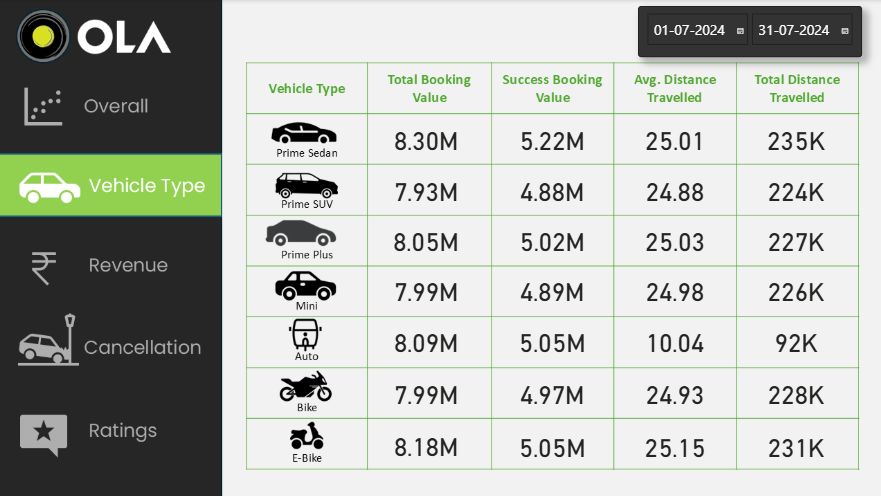

This screenshot's page, from the dashboard's own definition file:
{"tool":"powerbi","page":{"name":"Vehicle_Type","canvas":[1280,720],"ordinal":1},"visuals":[{"type":"actionButton","box":[0,339.8,323.9,95.4],"z":0},{"type":"actionButton","box":[0,448.2,323.9,94],"z":1000},{"type":"actionButton","box":[0,448.2,323.9,94],"z":2000},{"type":"actionButton","box":[0,579.8,323.9,95.4],"z":3000},{"type":"actionButton","box":[0,339.8,323.9,95.4],"z":4000},{"type":"actionButton","box":[0,114.2,323.9,95.4],"z":5000},{"type":"card","fields":{"Values":["Sum(Bookings.Booking_Value)"]},"box":[552.7,174.7,132.7,53.8],"z":6000},{"type":"card","fields":{"Values":["Sum(Bookings.Booking_Value)"]},"box":[552.7,245.2,132.7,60.5],"z":7000},{"type":"card","fields":{"Values":["Sum(Bookings.Booking_Value)"]},"box":[552.7,320.8,132.7,55.4],"z":8000},{"type":"card","fields":{"Values":["Sum(Bookings.Booking_Value)"]},"box":[552.7,393.1,132.7,55.4],"z":9000},{"type":"card","fields":{"Values":["Sum(Bookings.Booking_Value)"]},"box":[552.7,467,132.7,55.4],"z":10000},{"type":"card","fields":{"Values":["Sum(Bookings.Booking_Value)"]},"box":[552.7,542.6,132.7,55.4],"z":11000},{"type":"card","fields":{"Values":["Sum(Bookings.Booking_Value)"]},"box":[552.7,616.5,132.7,58.8],"z":12000},{"type":"card","fields":{"Values":["Sum(Bookings.Booking_Value)"]},"box":[734.1,174.7,132.7,53.8],"z":13000},{"type":"card","fields":{"Values":["Sum(Bookings.Booking_Value)"]},"box":[734.1,245.2,132.7,60.5],"z":14000},{"type":"card","fields":{"Values":["Sum(Bookings.Booking_Value)"]},"box":[734.1,320.8,132.7,55.4],"z":15000},{"type":"card","fields":{"Values":["Sum(Bookings.Booking_Value)"]},"box":[734.1,393.1,132.7,55.4],"z":16000},{"type":"card","fields":{"Values":["Sum(Bookings.Booking_Value)"]},"box":[734.1,467,132.7,55.4],"z":17000},{"type":"card","fields":{"Values":["Sum(Bookings.Booking_Value)"]},"box":[734.1,542.6,132.7,55.4],"z":18000},{"type":"card","fields":{"Values":["Sum(Bookings.Booking_Value)"]},"box":[734.1,611.4,132.7,68.9],"z":19000},{"type":"card","fields":{"Values":["Avg(Bookings.Ride_Distance)"]},"box":[912.1,174.7,132.7,53.8],"z":20000},{"type":"card","fields":{"Values":["Avg(Bookings.Ride_Distance)"]},"box":[912.1,245.2,132.7,60.5],"z":21000},{"type":"card","fields":{"Values":["Avg(Bookings.Ride_Distance)"]},"box":[912.1,320.8,132.7,55.4],"z":22000},{"type":"card","fields":{"Values":["Avg(Bookings.Ride_Distance)"]},"box":[912.1,393.1,132.7,55.4],"z":23000},{"type":"card","fields":{"Values":["Avg(Bookings.Ride_Distance)"]},"box":[912.1,467,132.7,55.4],"z":24000},{"type":"card","fields":{"Values":["Avg(Bookings.Ride_Distance)"]},"box":[912.1,542.6,132.7,55.4],"z":25000},{"type":"card","fields":{"Values":["Avg(Bookings.Ride_Distance)"]},"box":[912.1,611.4,132.7,68.9],"z":26000},{"type":"card","fields":{"Values":["Sum(Bookings.Ride_Distance)"]},"box":[1086.8,174.7,132.7,53.8],"z":27000},{"type":"card","fields":{"Values":["Sum(Bookings.Ride_Distance)"]},"box":[1086.8,245.2,132.7,60.5],"z":28000},{"type":"card","fields":{"Values":["Sum(Bookings.Ride_Distance)"]},"box":[1086.8,320.8,132.7,55.4],"z":29000},{"type":"card","fields":{"Values":["Sum(Bookings.Ride_Distance)"]},"box":[1086.8,393.1,132.7,55.4],"z":30000},{"type":"card","fields":{"Values":["Sum(Bookings.Ride_Distance)"]},"box":[1086.8,467,132.7,55.4],"z":31000},{"type":"card","fields":{"Values":["Sum(Bookings.Ride_Distance)"]},"box":[1086.8,542.6,132.7,55.4],"z":32000},{"type":"card","fields":{"Values":["Sum(Bookings.Ride_Distance)"]},"box":[1086.8,611.4,132.7,68.9],"z":33000},{"type":"slicer","title":"Date","fields":{"Values":["Bookings.Date"]},"box":[925.3,10.1,323.9,73.7],"z":34000}]}

Visuals, with their boxes on the page's 1280x720 design canvas (x1, y1, x2, y2). These are canvas units, not pixel positions in the 881x496 screenshot, which may show the page scaled, cropped or inside an application window:
actionButton: (0, 340, 324, 435)
actionButton: (0, 448, 324, 542)
actionButton: (0, 448, 324, 542)
actionButton: (0, 580, 324, 675)
actionButton: (0, 340, 324, 435)
actionButton: (0, 114, 324, 210)
card - Sum(Bookings.Booking_Value): (553, 175, 685, 228)
card - Sum(Bookings.Booking_Value): (553, 245, 685, 306)
card - Sum(Bookings.Booking_Value): (553, 321, 685, 376)
card - Sum(Bookings.Booking_Value): (553, 393, 685, 448)
card - Sum(Bookings.Booking_Value): (553, 467, 685, 522)
card - Sum(Bookings.Booking_Value): (553, 543, 685, 598)
card - Sum(Bookings.Booking_Value): (553, 616, 685, 675)
card - Sum(Bookings.Booking_Value): (734, 175, 867, 228)
card - Sum(Bookings.Booking_Value): (734, 245, 867, 306)
card - Sum(Bookings.Booking_Value): (734, 321, 867, 376)
card - Sum(Bookings.Booking_Value): (734, 393, 867, 448)
card - Sum(Bookings.Booking_Value): (734, 467, 867, 522)
card - Sum(Bookings.Booking_Value): (734, 543, 867, 598)
card - Sum(Bookings.Booking_Value): (734, 611, 867, 680)
card - Avg(Bookings.Ride_Distance): (912, 175, 1045, 228)
card - Avg(Bookings.Ride_Distance): (912, 245, 1045, 306)
card - Avg(Bookings.Ride_Distance): (912, 321, 1045, 376)
card - Avg(Bookings.Ride_Distance): (912, 393, 1045, 448)
card - Avg(Bookings.Ride_Distance): (912, 467, 1045, 522)
card - Avg(Bookings.Ride_Distance): (912, 543, 1045, 598)
card - Avg(Bookings.Ride_Distance): (912, 611, 1045, 680)
card - Sum(Bookings.Ride_Distance): (1087, 175, 1220, 228)
card - Sum(Bookings.Ride_Distance): (1087, 245, 1220, 306)
card - Sum(Bookings.Ride_Distance): (1087, 321, 1220, 376)
card - Sum(Bookings.Ride_Distance): (1087, 393, 1220, 448)
card - Sum(Bookings.Ride_Distance): (1087, 467, 1220, 522)
card - Sum(Bookings.Ride_Distance): (1087, 543, 1220, 598)
card - Sum(Bookings.Ride_Distance): (1087, 611, 1220, 680)
"Date" slicer: (925, 10, 1249, 84)
